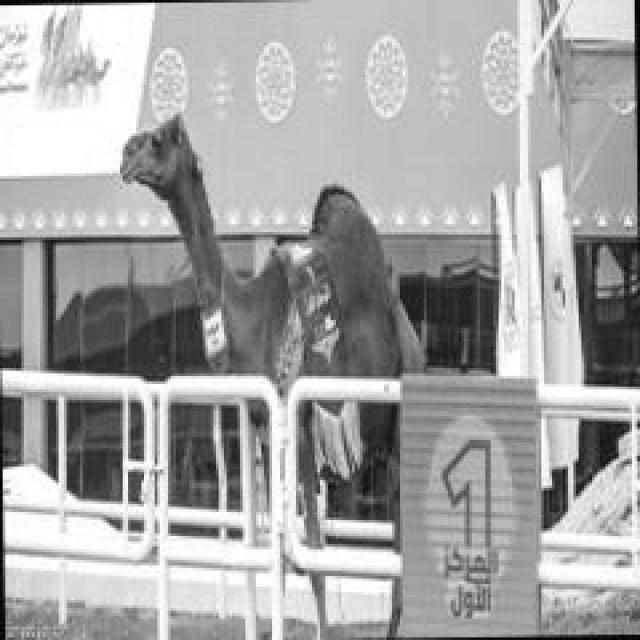Camel: (117, 112, 427, 637)
